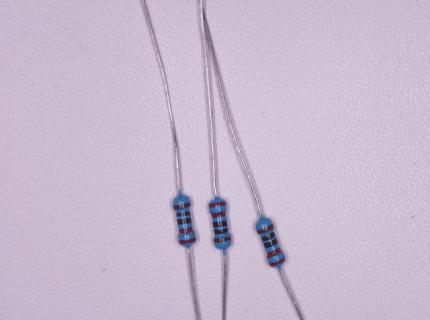Black band: (261, 231, 276, 242), (263, 238, 278, 249), (177, 217, 191, 225), (213, 220, 227, 227), (214, 228, 228, 235), (176, 211, 191, 217)
Brown band: (256, 223, 274, 235), (173, 202, 191, 210), (214, 236, 231, 242)
Red band: (268, 256, 285, 267), (267, 247, 282, 258), (179, 237, 196, 244), (208, 201, 226, 207), (211, 211, 226, 218), (179, 227, 193, 233)
